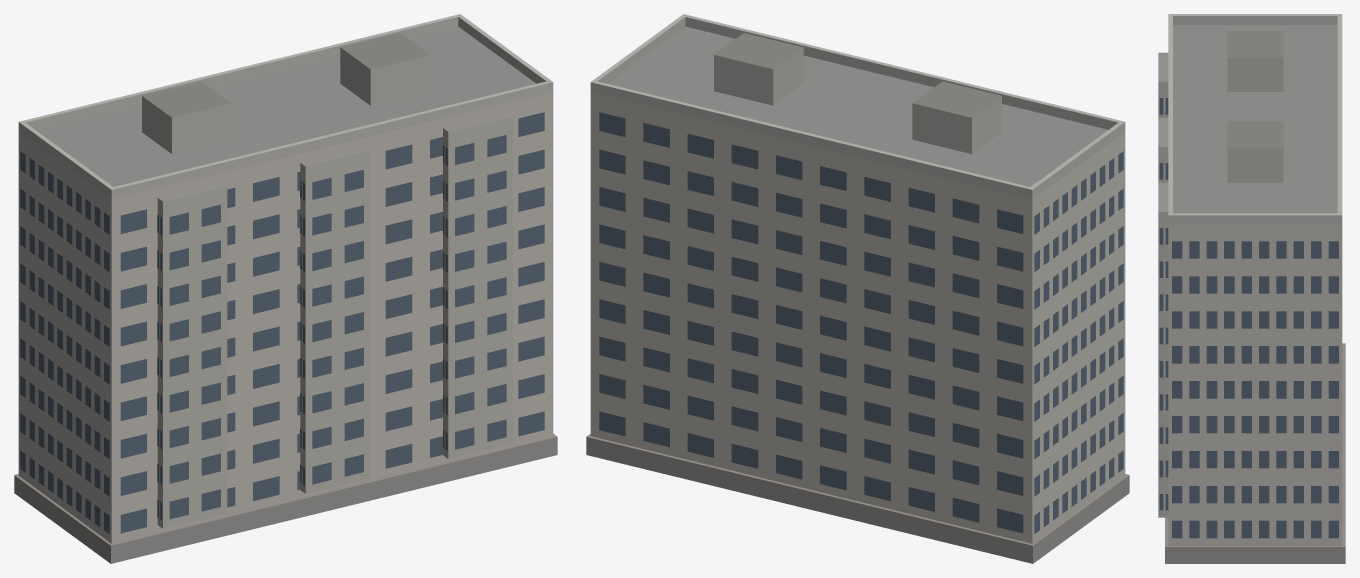
Rendered from highrise_01_panel9.glb.
3 views of the same model, side by side, from view 1: azimuth 30°, elevation 25°; view 2: azimuth 150°, elevation 25°; view 3: azimuth 270°, elevation 25° (orthographic). The views are drawn at different scales.
Parts seen in each view (by area): view 1: highrise_01_panel9; view 2: highrise_01_panel9; view 3: highrise_01_panel9.
Boxes of the visible parts, <box> form: highrise_01_panel9: <box>14,14,557,563</box>; highrise_01_panel9: <box>586,14,1129,563</box>; highrise_01_panel9: <box>1158,14,1345,563</box>.
Bounding box in the file's own units: 36 × 30.7 × 14.01.
